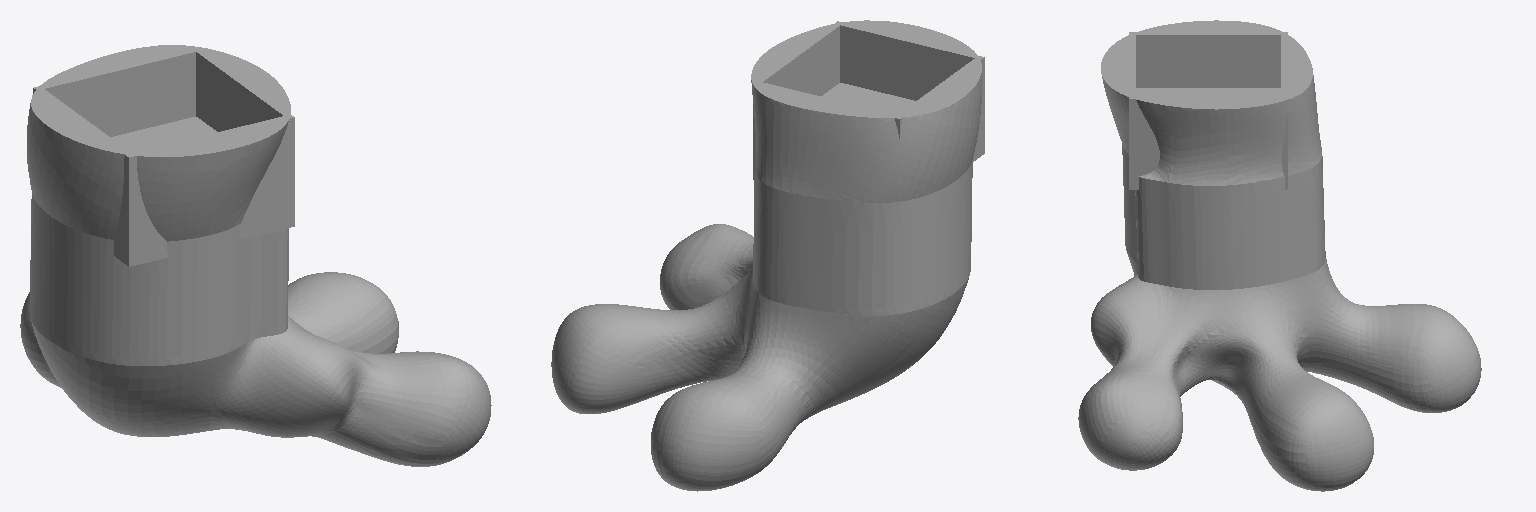
URDF robot description (FrogBot1_top-FrogBot1-x-7_bottom-FrogBot1-x-7):
<?xml version="1.0" ?>
<robot name="FrogBot1_top-FrogBot1-x-7_bottom-FrogBot1-x-7">

<material name="pla_5_percent_infill">
  <color rgba="0.700 0.700 0.700 1.000"/>
</material>

<link name="base_link">
  <inertial>
    <origin xyz="0 0 0" rpy="0 0 0"/>
    <mass value="1.4103143072721238"/>
    <inertia ixx="0.004671865419262023" iyy="0.01102984328633242" izz="0.011972094032648898" ixy="0.00015185420958179873" iyz="8.583160306759328e-05" ixz="-0.0012132770853355082"/>
  </inertial>
  <visual>
    <origin xyz="0 0 0" rpy="0 0 0"/>
    <geometry>
      <mesh filename="simple_meshes/base_link.stl" scale="0.001 0.001 0.001"/>
    </geometry>
    <material name="pla_5_percent_infill"/>
  </visual>
  <collision>
    <origin xyz="0 0 0" rpy="0 0 0"/>
    <geometry>
      <mesh filename="simple_meshes/base_link.stl" scale="0.001 0.001 0.001"/>
    </geometry>
  </collision>
</link>

<link name="body_1_0_1">
  <inertial>
    <origin xyz="-0.045735 -0.109621 -0.00462" rpy="0 0 0"/>
    <mass value="0.04471780738078763"/>
    <inertia ixx="5.487403951229242e-05" iyy="5.655686033771682e-05" izz="1.549381513176384e-05" ixy="-4.628937347087004e-07" iyz="3.6554350180315574e-06" ixz="7.53278393260089e-07"/>
  </inertial>
  <visual>
    <origin xyz="-0.045735 -0.109621 -0.00462" rpy="0 0 0"/>
    <geometry>
      <mesh filename="simple_meshes/body_1_0_1.stl" scale="0.001 0.001 0.001"/>
    </geometry>
    <material name="pla_5_percent_infill"/>
  </visual>
  <collision>
    <origin xyz="-0.045735 -0.109621 -0.00462" rpy="0 0 0"/>
    <geometry>
      <mesh filename="simple_meshes/body_1_0_1.stl" scale="0.001 0.001 0.001"/>
    </geometry>
  </collision>
</link>

<link name="body_1_1_1">
  <inertial>
    <origin xyz="0.086489 -0.109621 -0.018802" rpy="0 0 0"/>
    <mass value="0.08202110815479256"/>
    <inertia ixx="0.00010593505113191352" iyy="0.00011376023316928149" izz="4.5564408399704354e-05" ixy="6.271203856297479e-06" iyz="1.5623177204525612e-05" ixz="-2.3487354081883592e-05"/>
  </inertial>
  <visual>
    <origin xyz="0.086489 -0.109621 -0.018802" rpy="0 0 0"/>
    <geometry>
      <mesh filename="simple_meshes/body_1_1_1.stl" scale="0.001 0.001 0.001"/>
    </geometry>
    <material name="pla_5_percent_infill"/>
  </visual>
  <collision>
    <origin xyz="0.086489 -0.109621 -0.018802" rpy="0 0 0"/>
    <geometry>
      <mesh filename="simple_meshes/body_1_1_1.stl" scale="0.001 0.001 0.001"/>
    </geometry>
  </collision>
</link>

<link name="body_1_2_1">
  <inertial>
    <origin xyz="-0.040267 0.109621 -0.027764" rpy="0 0 0"/>
    <mass value="0.05639022838319631"/>
    <inertia ixx="0.0001022955831525463" iyy="0.00010053795665720532" izz="2.4135593455748734e-05" ixy="6.604171449711639e-07" iyz="-1.6108282999821388e-05" ixz="-1.8550394075211662e-07"/>
  </inertial>
  <visual>
    <origin xyz="-0.040267 0.109621 -0.027764" rpy="0 0 0"/>
    <geometry>
      <mesh filename="simple_meshes/body_1_2_1.stl" scale="0.001 0.001 0.001"/>
    </geometry>
    <material name="pla_5_percent_infill"/>
  </visual>
  <collision>
    <origin xyz="-0.040267 0.109621 -0.027764" rpy="0 0 0"/>
    <geometry>
      <mesh filename="simple_meshes/body_1_2_1.stl" scale="0.001 0.001 0.001"/>
    </geometry>
  </collision>
</link>

<link name="body_1_3_1">
  <inertial>
    <origin xyz="0.090407 0.109621 -0.022193" rpy="0 0 0"/>
    <mass value="0.0812689060482316"/>
    <inertia ixx="0.00011476437570705688" iyy="0.00012453125662313094" izz="4.844903647361221e-05" ixy="-7.674278067395764e-06" iyz="-1.9249985587180057e-05" ixz="-2.8299807899600106e-05"/>
  </inertial>
  <visual>
    <origin xyz="0.090407 0.109621 -0.022193" rpy="0 0 0"/>
    <geometry>
      <mesh filename="simple_meshes/body_1_3_1.stl" scale="0.001 0.001 0.001"/>
    </geometry>
    <material name="pla_5_percent_infill"/>
  </visual>
  <collision>
    <origin xyz="0.090407 0.109621 -0.022193" rpy="0 0 0"/>
    <geometry>
      <mesh filename="simple_meshes/body_1_3_1.stl" scale="0.001 0.001 0.001"/>
    </geometry>
  </collision>
</link>

<link name="body_2_0_1">
  <inertial>
    <origin xyz="-0.049562 -0.159797 0.110064" rpy="0 0 0"/>
    <mass value="0.11469747204286833"/>
    <inertia ixx="0.0001549634112734807" iyy="0.0001673301505192102" izz="0.00013946117743456488" ixy="-4.719476289618456e-06" iyz="-1.5751093486887115e-06" ixz="3.661165512217177e-05"/>
  </inertial>
  <visual>
    <origin xyz="-0.049562 -0.159797 0.110064" rpy="0 0 0"/>
    <geometry>
      <mesh filename="simple_meshes/body_2_0_1.stl" scale="0.001 0.001 0.001"/>
    </geometry>
    <material name="pla_5_percent_infill"/>
  </visual>
  <collision>
    <origin xyz="-0.049562 -0.159797 0.110064" rpy="0 0 0"/>
    <geometry>
      <mesh filename="simple_meshes/body_2_0_1.stl" scale="0.001 0.001 0.001"/>
    </geometry>
  </collision>
</link>

<link name="body_2_1_1">
  <inertial>
    <origin xyz="0.121182 -0.173952 0.110064" rpy="0 0 0"/>
    <mass value="0.1260517642523357"/>
    <inertia ixx="0.00016523758936838953" iyy="0.0001771837862516697" izz="0.00015283692195053756" ixy="-2.1614767347407499e-07" iyz="2.1344478131080265e-05" ixz="4.6406543719947676e-05"/>
  </inertial>
  <visual>
    <origin xyz="0.121182 -0.173952 0.110064" rpy="0 0 0"/>
    <geometry>
      <mesh filename="simple_meshes/body_2_1_1.stl" scale="0.001 0.001 0.001"/>
    </geometry>
    <material name="pla_5_percent_infill"/>
  </visual>
  <collision>
    <origin xyz="0.121182 -0.173952 0.110064" rpy="0 0 0"/>
    <geometry>
      <mesh filename="simple_meshes/body_2_1_1.stl" scale="0.001 0.001 0.001"/>
    </geometry>
  </collision>
</link>

<link name="body_2_2_1">
  <inertial>
    <origin xyz="-0.04311 0.170506 0.110064" rpy="0 0 0"/>
    <mass value="0.119544225948367"/>
    <inertia ixx="0.00016566695943753124" iyy="0.0001590804457777678" izz="0.00014402576158396158" ixy="1.248207737090468e-06" iyz="-8.54781087498719e-06" ixz="2.657129860743736e-05"/>
  </inertial>
  <visual>
    <origin xyz="-0.04311 0.170506 0.110064" rpy="0 0 0"/>
    <geometry>
      <mesh filename="simple_meshes/body_2_2_1.stl" scale="0.001 0.001 0.001"/>
    </geometry>
    <material name="pla_5_percent_infill"/>
  </visual>
  <collision>
    <origin xyz="-0.04311 0.170506 0.110064" rpy="0 0 0"/>
    <geometry>
      <mesh filename="simple_meshes/body_2_2_1.stl" scale="0.001 0.001 0.001"/>
    </geometry>
  </collision>
</link>

<link name="body_2_3_1">
  <inertial>
    <origin xyz="0.129712 0.175384 0.110064" rpy="0 0 0"/>
    <mass value="0.1222865192958556"/>
    <inertia ixx="0.0001735137354240586" iyy="0.00017102371696577426" izz="0.00013998444877643193" ixy="6.606476396326614e-06" iyz="-2.74130910612189e-05" ixz="4.411983910417288e-05"/>
  </inertial>
  <visual>
    <origin xyz="0.129712 0.175384 0.110064" rpy="0 0 0"/>
    <geometry>
      <mesh filename="simple_meshes/body_2_3_1.stl" scale="0.001 0.001 0.001"/>
    </geometry>
    <material name="pla_5_percent_infill"/>
  </visual>
  <collision>
    <origin xyz="0.129712 0.175384 0.110064" rpy="0 0 0"/>
    <geometry>
      <mesh filename="simple_meshes/body_2_3_1.stl" scale="0.001 0.001 0.001"/>
    </geometry>
  </collision>
</link>

<joint name="joint_1_0" type="revolute">
  <origin xyz="0.045735 0.109621 0.00462" rpy="0 0 0"/>
  <parent link="base_link"/>
  <child link="body_1_0_1"/>
  <axis xyz="1.0 0.0 0.0"/>
  <limit upper="1.2" lower="-1.2" effort="3.8" velocity="5.4"/>
</joint>
<transmission name="joint_1_0_tran">
  <type>transmission_interface/SimpleTransmission</type>
  <joint name="joint_1_0">
    <hardwareInterface>PositionJointInterface</hardwareInterface>
  </joint>
  <actuator name="joint_1_0_actr">
    <hardwareInterface>PositionJointInterface</hardwareInterface>
    <mechanicalReduction>1</mechanicalReduction>
  </actuator>
</transmission>

<joint name="joint_1_1" type="revolute">
  <origin xyz="-0.086489 0.109621 0.018802" rpy="0 0 0"/>
  <parent link="base_link"/>
  <child link="body_1_1_1"/>
  <axis xyz="1.0 0.0 0.0"/>
  <limit upper="1.2" lower="-1.2" effort="3.8" velocity="5.4"/>
</joint>
<transmission name="joint_1_1_tran">
  <type>transmission_interface/SimpleTransmission</type>
  <joint name="joint_1_1">
    <hardwareInterface>PositionJointInterface</hardwareInterface>
  </joint>
  <actuator name="joint_1_1_actr">
    <hardwareInterface>PositionJointInterface</hardwareInterface>
    <mechanicalReduction>1</mechanicalReduction>
  </actuator>
</transmission>

<joint name="joint_1_2" type="revolute">
  <origin xyz="0.040267 -0.109621 0.027764" rpy="0 0 0"/>
  <parent link="base_link"/>
  <child link="body_1_2_1"/>
  <axis xyz="1.0 0.0 0.0"/>
  <limit upper="1.2" lower="-1.2" effort="3.8" velocity="5.4"/>
</joint>
<transmission name="joint_1_2_tran">
  <type>transmission_interface/SimpleTransmission</type>
  <joint name="joint_1_2">
    <hardwareInterface>PositionJointInterface</hardwareInterface>
  </joint>
  <actuator name="joint_1_2_actr">
    <hardwareInterface>PositionJointInterface</hardwareInterface>
    <mechanicalReduction>1</mechanicalReduction>
  </actuator>
</transmission>

<joint name="joint_1_3" type="revolute">
  <origin xyz="-0.090407 -0.109621 0.022193" rpy="0 0 0"/>
  <parent link="base_link"/>
  <child link="body_1_3_1"/>
  <axis xyz="1.0 0.0 0.0"/>
  <limit upper="1.2" lower="-1.2" effort="3.8" velocity="5.4"/>
</joint>
<transmission name="joint_1_3_tran">
  <type>transmission_interface/SimpleTransmission</type>
  <joint name="joint_1_3">
    <hardwareInterface>PositionJointInterface</hardwareInterface>
  </joint>
  <actuator name="joint_1_3_actr">
    <hardwareInterface>PositionJointInterface</hardwareInterface>
    <mechanicalReduction>1</mechanicalReduction>
  </actuator>
</transmission>

<joint name="joint_2_0" type="revolute">
  <origin xyz="0.003827 0.050176 -0.114684" rpy="0 0 0"/>
  <parent link="body_1_0_1"/>
  <child link="body_2_0_1"/>
  <axis xyz="1.0 0.0 0.0"/>
  <limit upper="1.2" lower="-1.2" effort="3.8" velocity="5.4"/>
</joint>
<transmission name="joint_2_0_tran">
  <type>transmission_interface/SimpleTransmission</type>
  <joint name="joint_2_0">
    <hardwareInterface>PositionJointInterface</hardwareInterface>
  </joint>
  <actuator name="joint_2_0_actr">
    <hardwareInterface>PositionJointInterface</hardwareInterface>
    <mechanicalReduction>1</mechanicalReduction>
  </actuator>
</transmission>

<joint name="joint_2_1" type="revolute">
  <origin xyz="-0.034693 0.064331 -0.128866" rpy="0 0 0"/>
  <parent link="body_1_1_1"/>
  <child link="body_2_1_1"/>
  <axis xyz="1.0 0.0 0.0"/>
  <limit upper="1.2" lower="-1.2" effort="3.8" velocity="5.4"/>
</joint>
<transmission name="joint_2_1_tran">
  <type>transmission_interface/SimpleTransmission</type>
  <joint name="joint_2_1">
    <hardwareInterface>PositionJointInterface</hardwareInterface>
  </joint>
  <actuator name="joint_2_1_actr">
    <hardwareInterface>PositionJointInterface</hardwareInterface>
    <mechanicalReduction>1</mechanicalReduction>
  </actuator>
</transmission>

<joint name="joint_2_2" type="revolute">
  <origin xyz="0.002843 -0.060885 -0.137828" rpy="0 0 0"/>
  <parent link="body_1_2_1"/>
  <child link="body_2_2_1"/>
  <axis xyz="1.0 0.0 0.0"/>
  <limit upper="1.2" lower="-1.2" effort="3.8" velocity="5.4"/>
</joint>
<transmission name="joint_2_2_tran">
  <type>transmission_interface/SimpleTransmission</type>
  <joint name="joint_2_2">
    <hardwareInterface>PositionJointInterface</hardwareInterface>
  </joint>
  <actuator name="joint_2_2_actr">
    <hardwareInterface>PositionJointInterface</hardwareInterface>
    <mechanicalReduction>1</mechanicalReduction>
  </actuator>
</transmission>

<joint name="joint_2_3" type="revolute">
  <origin xyz="-0.039305 -0.065763 -0.132257" rpy="0 0 0"/>
  <parent link="body_1_3_1"/>
  <child link="body_2_3_1"/>
  <axis xyz="1.0 0.0 0.0"/>
  <limit upper="1.2" lower="-1.2" effort="3.8" velocity="5.4"/>
</joint>
<transmission name="joint_2_3_tran">
  <type>transmission_interface/SimpleTransmission</type>
  <joint name="joint_2_3">
    <hardwareInterface>PositionJointInterface</hardwareInterface>
  </joint>
  <actuator name="joint_2_3_actr">
    <hardwareInterface>PositionJointInterface</hardwareInterface>
    <mechanicalReduction>1</mechanicalReduction>
  </actuator>
</transmission>

</robot>

--- Facts derived from the render (not from the file) ---
The picture shows the robot from 3 angles, left to right: view 1: azimuth 30°, elevation 25°; view 2: azimuth 150°, elevation 25°; view 3: azimuth 270°, elevation 25°; orthographic projection.
Model FrogBot1_top-FrogBot1-x-7_bottom-FrogBot1-x-7 with 9 links and 8 joints (8 revolute), rooted at base_link, posed all joints at 0.
Visible links, largest first — view 1: body_2_1_1; view 2: body_2_1_1; view 3: body_2_1_1.
Boxes of the visible links, x1=… form: body_2_1_1: x1=20, y1=45, x2=491, y2=466; body_2_1_1: x1=551, y1=20, x2=984, y2=491; body_2_1_1: x1=1078, y1=20, x2=1481, y2=491.
Size in the robot's own frame: 0.1176 by 0.1228 by 0.1084 metres.
1 mesh visuals loaded from 9 distinct referenced files (1 binary STL); not drawn: 8 (reference not matched to a file when rendering).